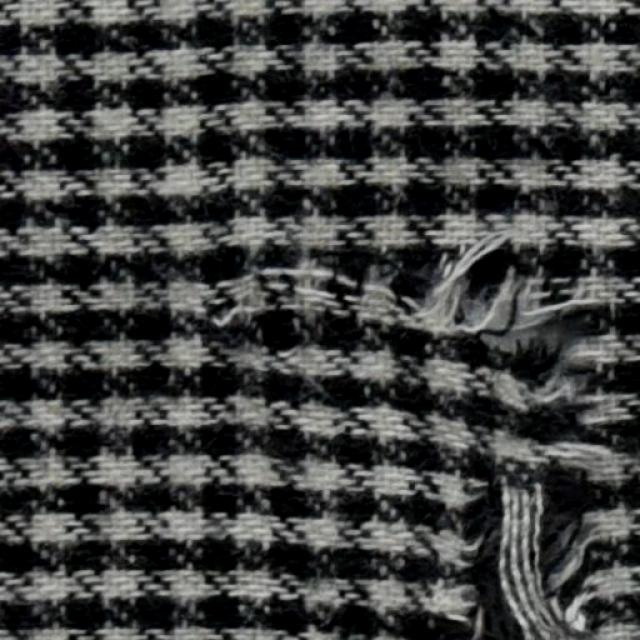Hole: (490, 304, 597, 373)
Snag: (212, 240, 565, 339), (453, 453, 639, 639)
